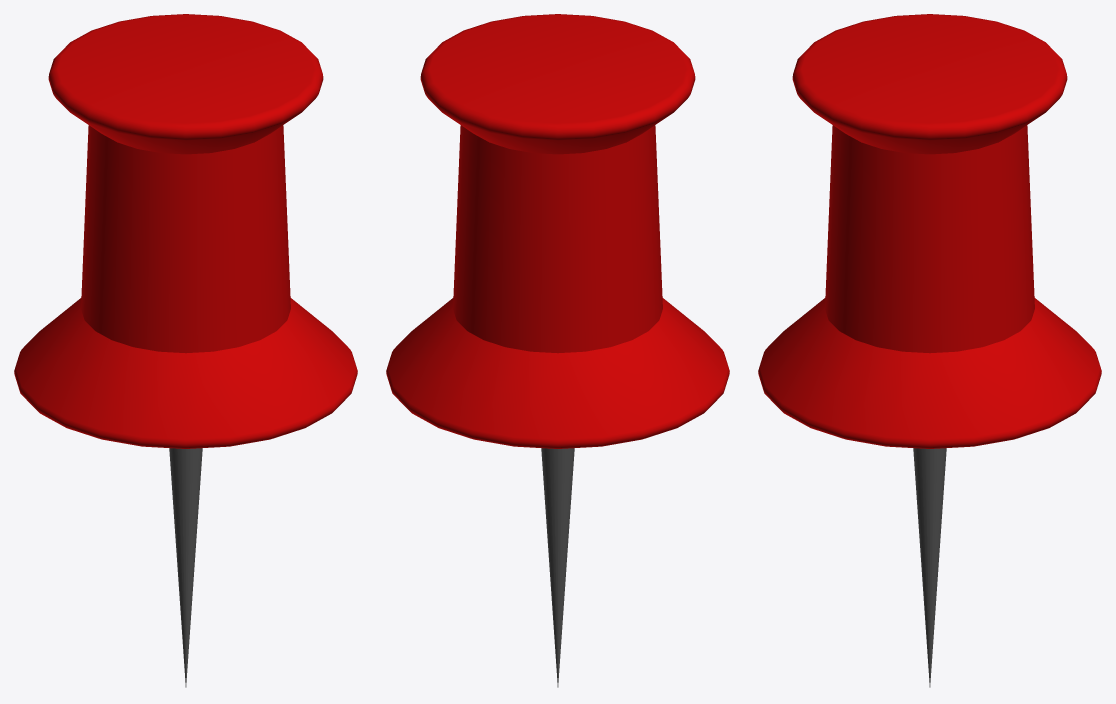
File: PishPin.fbx
The picture shows the model from 3 angles, left to right: view 1: azimuth 30°, elevation 25°; view 2: azimuth 150°, elevation 25°; view 3: azimuth 270°, elevation 25°; orthographic projection.
Parts seen in each view (by area): view 1: PushPin_Mesh; view 2: PushPin_Mesh; view 3: PushPin_Mesh.
Boxes of the visible parts, bbox=[...] form: PushPin_Mesh: bbox=[14, 14, 357, 687]; PushPin_Mesh: bbox=[386, 14, 729, 687]; PushPin_Mesh: bbox=[758, 14, 1101, 687].
Bounding box in the file's own units: 13.43 × 26.76 × 13.43.
